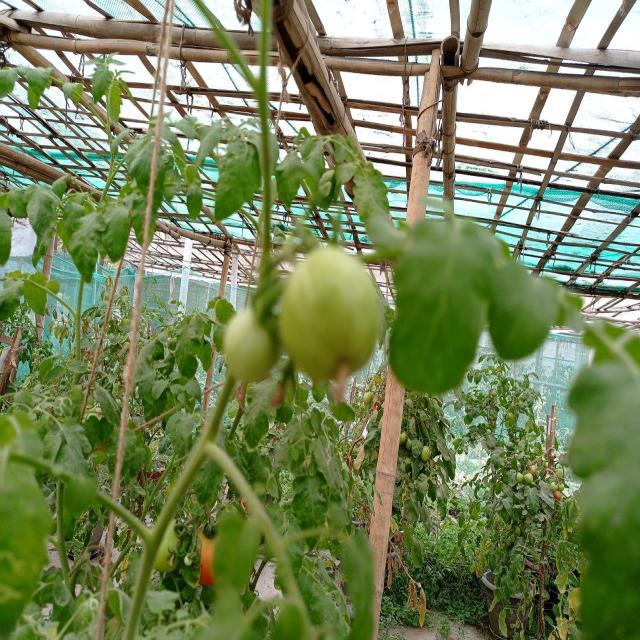Unripe: (281, 246, 381, 380), (220, 308, 277, 385)
